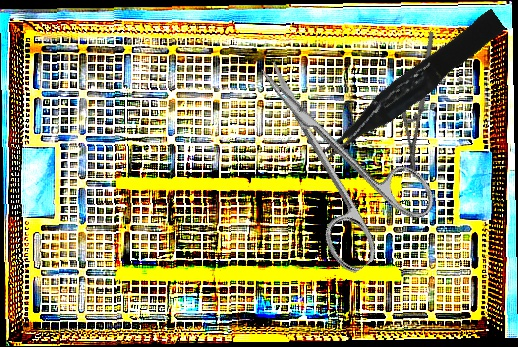Iris Scissors: (221, 28, 447, 279)
Needle Holder: (368, 31, 477, 175)
Tissue Forceps: (311, 8, 512, 163)
